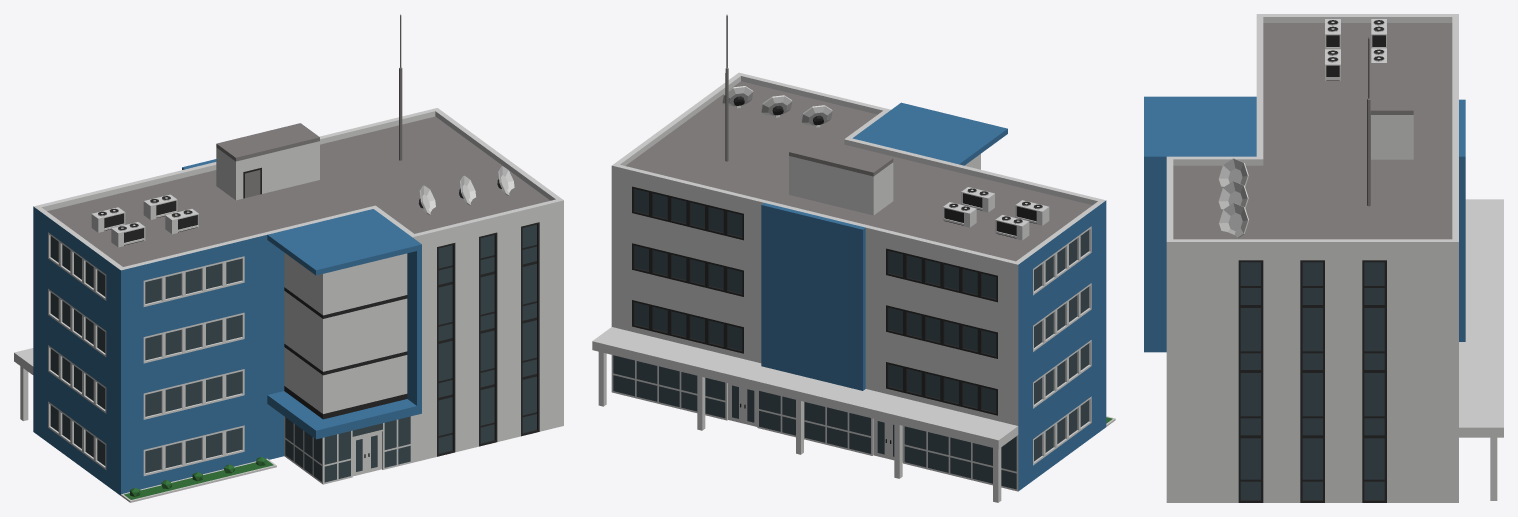
File: buildings_data-center.fbx
The picture shows the model from 3 angles, left to right: view 1: azimuth 30°, elevation 25°; view 2: azimuth 150°, elevation 25°; view 3: azimuth 270°, elevation 25°; orthographic projection. The views are drawn at different scales.
Visible parts, largest first — view 1: buildings_data_center; view 2: buildings_data_center; view 3: buildings_data_center.
Boxes of the visible parts, x1=… form: buildings_data_center: x1=14, y1=14, x2=563, y2=502; buildings_data_center: x1=592, y1=14, x2=1115, y2=502; buildings_data_center: x1=1144, y1=14, x2=1503, y2=502.
Size of the model in its own units: 200 by 173 by 133.
